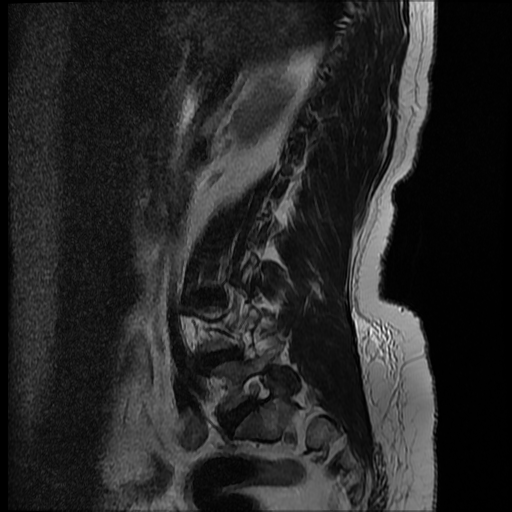RFS0: (237, 364, 281, 411)
